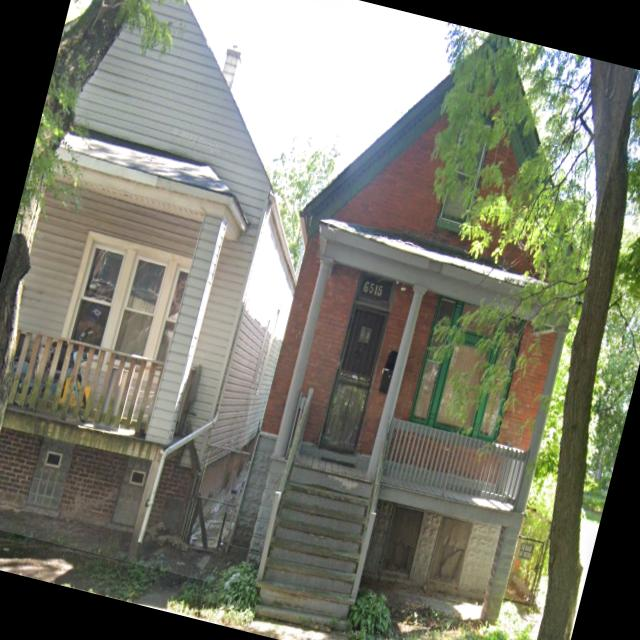House: (203, 0, 635, 640), (0, 0, 364, 585)
